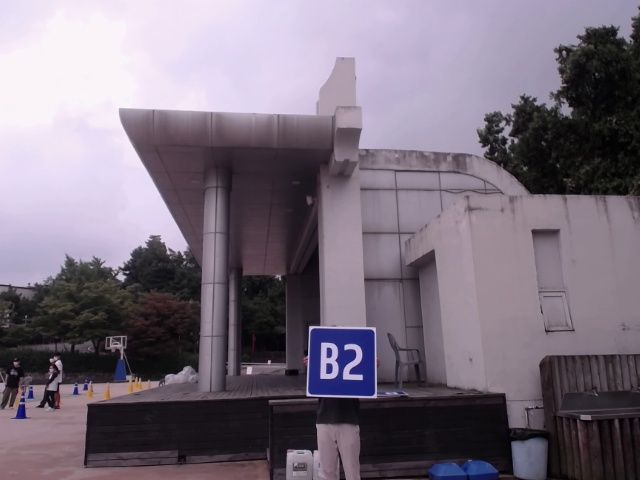delivery_b2: (311, 327, 377, 398)
